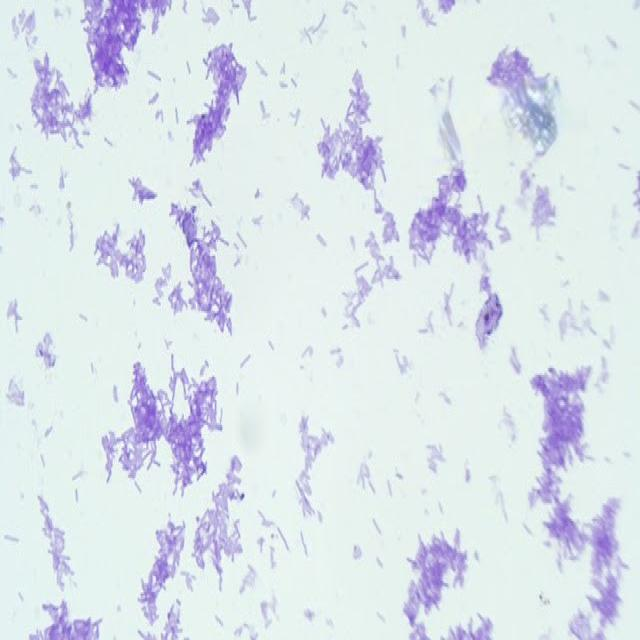Rod_bacteria: (2, 4, 634, 640)
